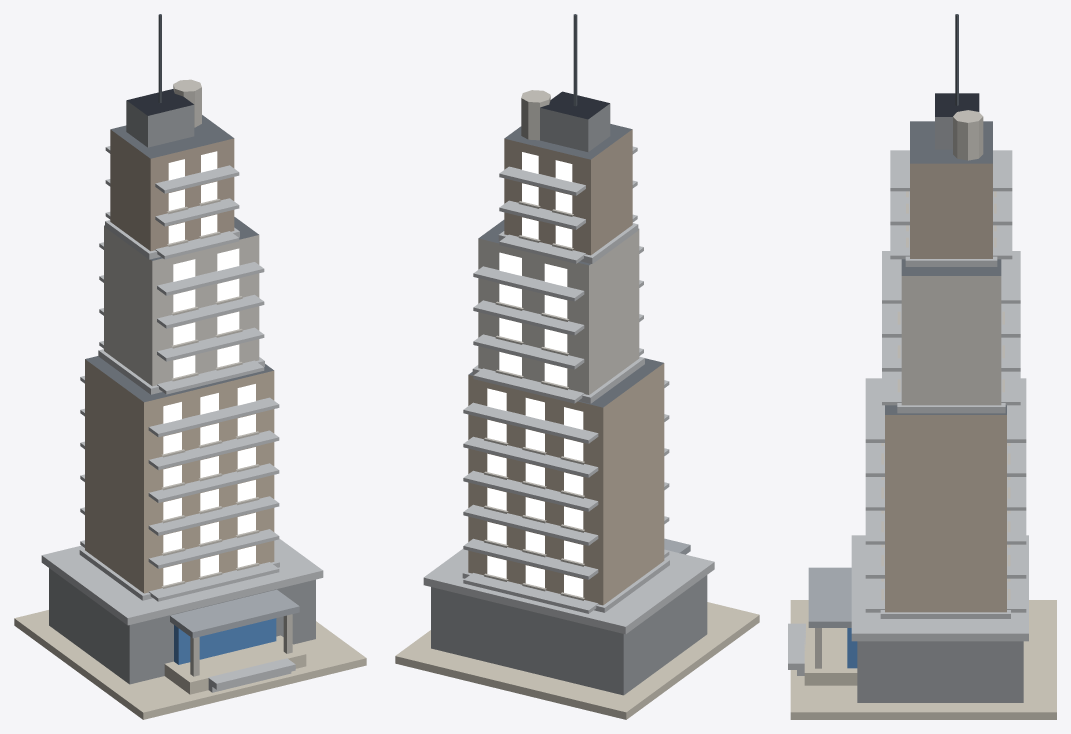
3 renders of one model, left to right at view 1: azimuth 30°, elevation 25°; view 2: azimuth 150°, elevation 25°; view 3: azimuth 270°, elevation 25°, orthographic. The views are drawn at different scales.
Parts seen in each view (by area): view 1: b10_v2_lod1; view 2: b10_v2_lod1; view 3: b10_v2_lod1.
Part boxes in pixels (bbox=[...]): b10_v2_lod1: bbox=[14, 14, 366, 719]; b10_v2_lod1: bbox=[395, 14, 759, 719]; b10_v2_lod1: bbox=[788, 14, 1056, 719].
Bounding box in the file's own units: 0.96 × 2.56 × 0.969.
